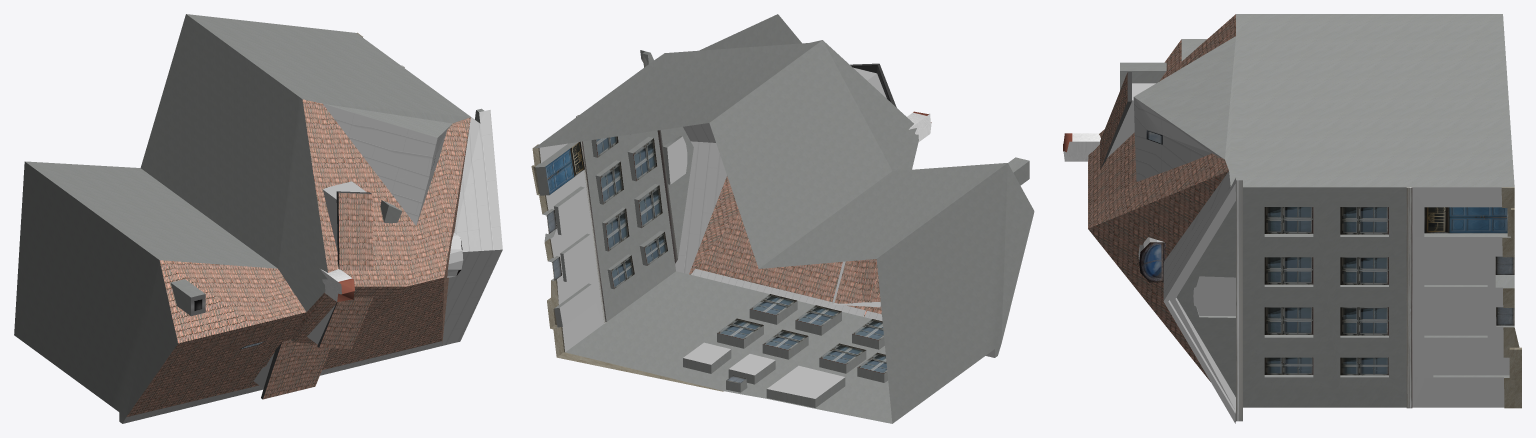
The model's file is Lyhike_jalg_2-origo.obj.
3 views of the same model, side by side, from view 1: azimuth 30°, elevation 25°; view 2: azimuth 150°, elevation 25°; view 3: azimuth 270°, elevation 25° (orthographic). The views are drawn at different scales.
Parts seen in each view (by area): view 1: Lyhike_jalg_2; view 2: Lyhike_jalg_2; view 3: Lyhike_jalg_2.
Part boxes in pixels (x1=…): Lyhike_jalg_2: x1=14, y1=14, x2=502, y2=423; Lyhike_jalg_2: x1=531, y1=14, x2=1034, y2=423; Lyhike_jalg_2: x1=1063, y1=14, x2=1521, y2=423.
Size of the model in its own units: 20.56 by 15 by 19.39.
